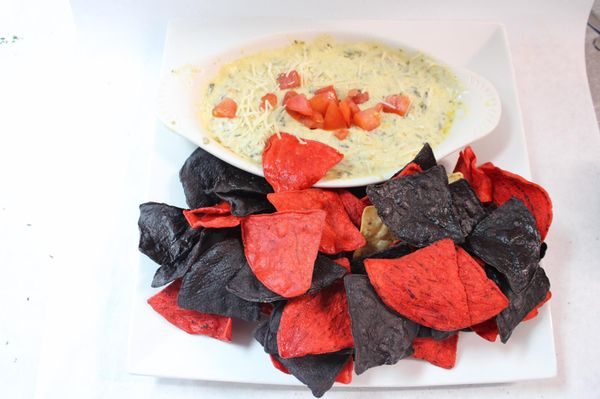curry: (28, 5, 600, 391)
